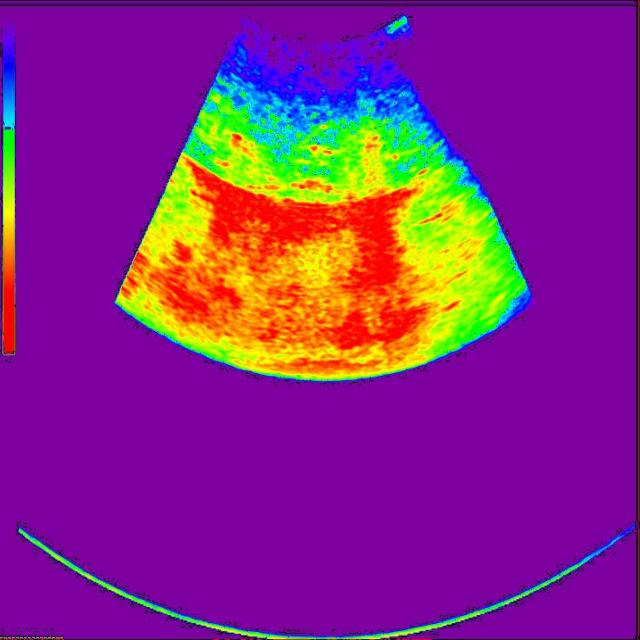lamb liver pre: (291, 120, 383, 203)
